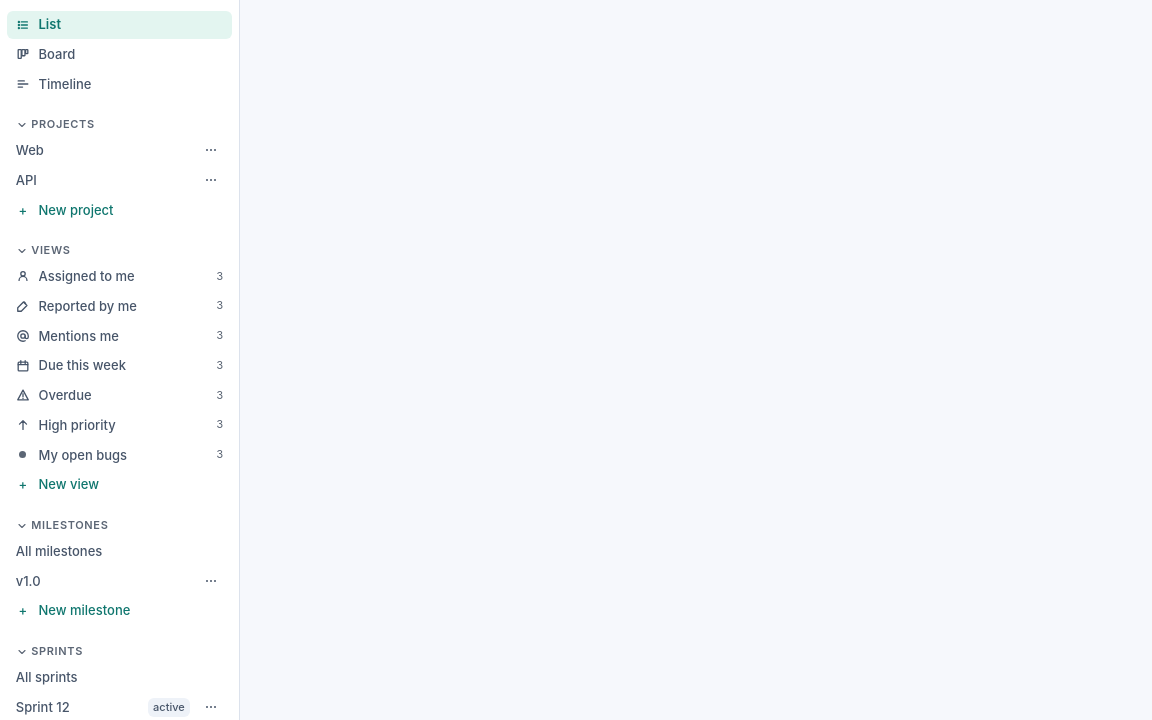
Sidebar › '+ New milestone' opens the shared create dialog in place (K105)
Check: the button "Projects" is shown, box [7,112,232,135]
Click the button with test id "sidebar-new-milestone" at (120, 611), box [7,597,232,625]
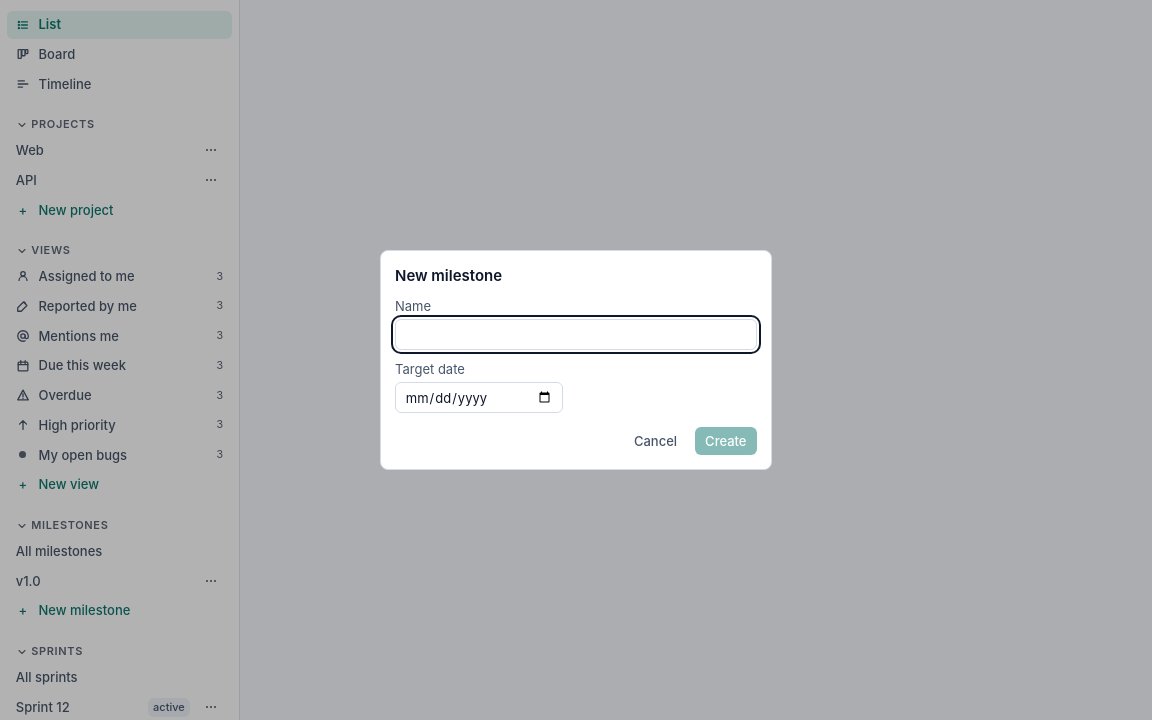
Check: the field with test id "milestone-create-name" is shown, box [395,319,757,350]
